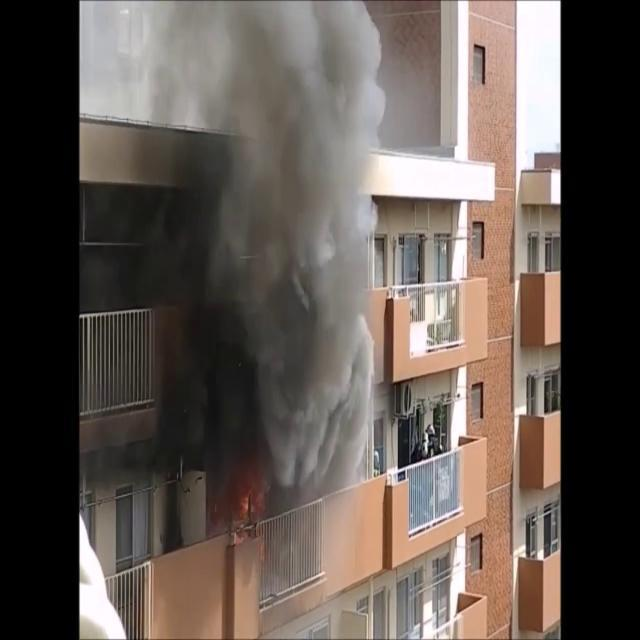Smoke: (88, 1, 387, 527)
